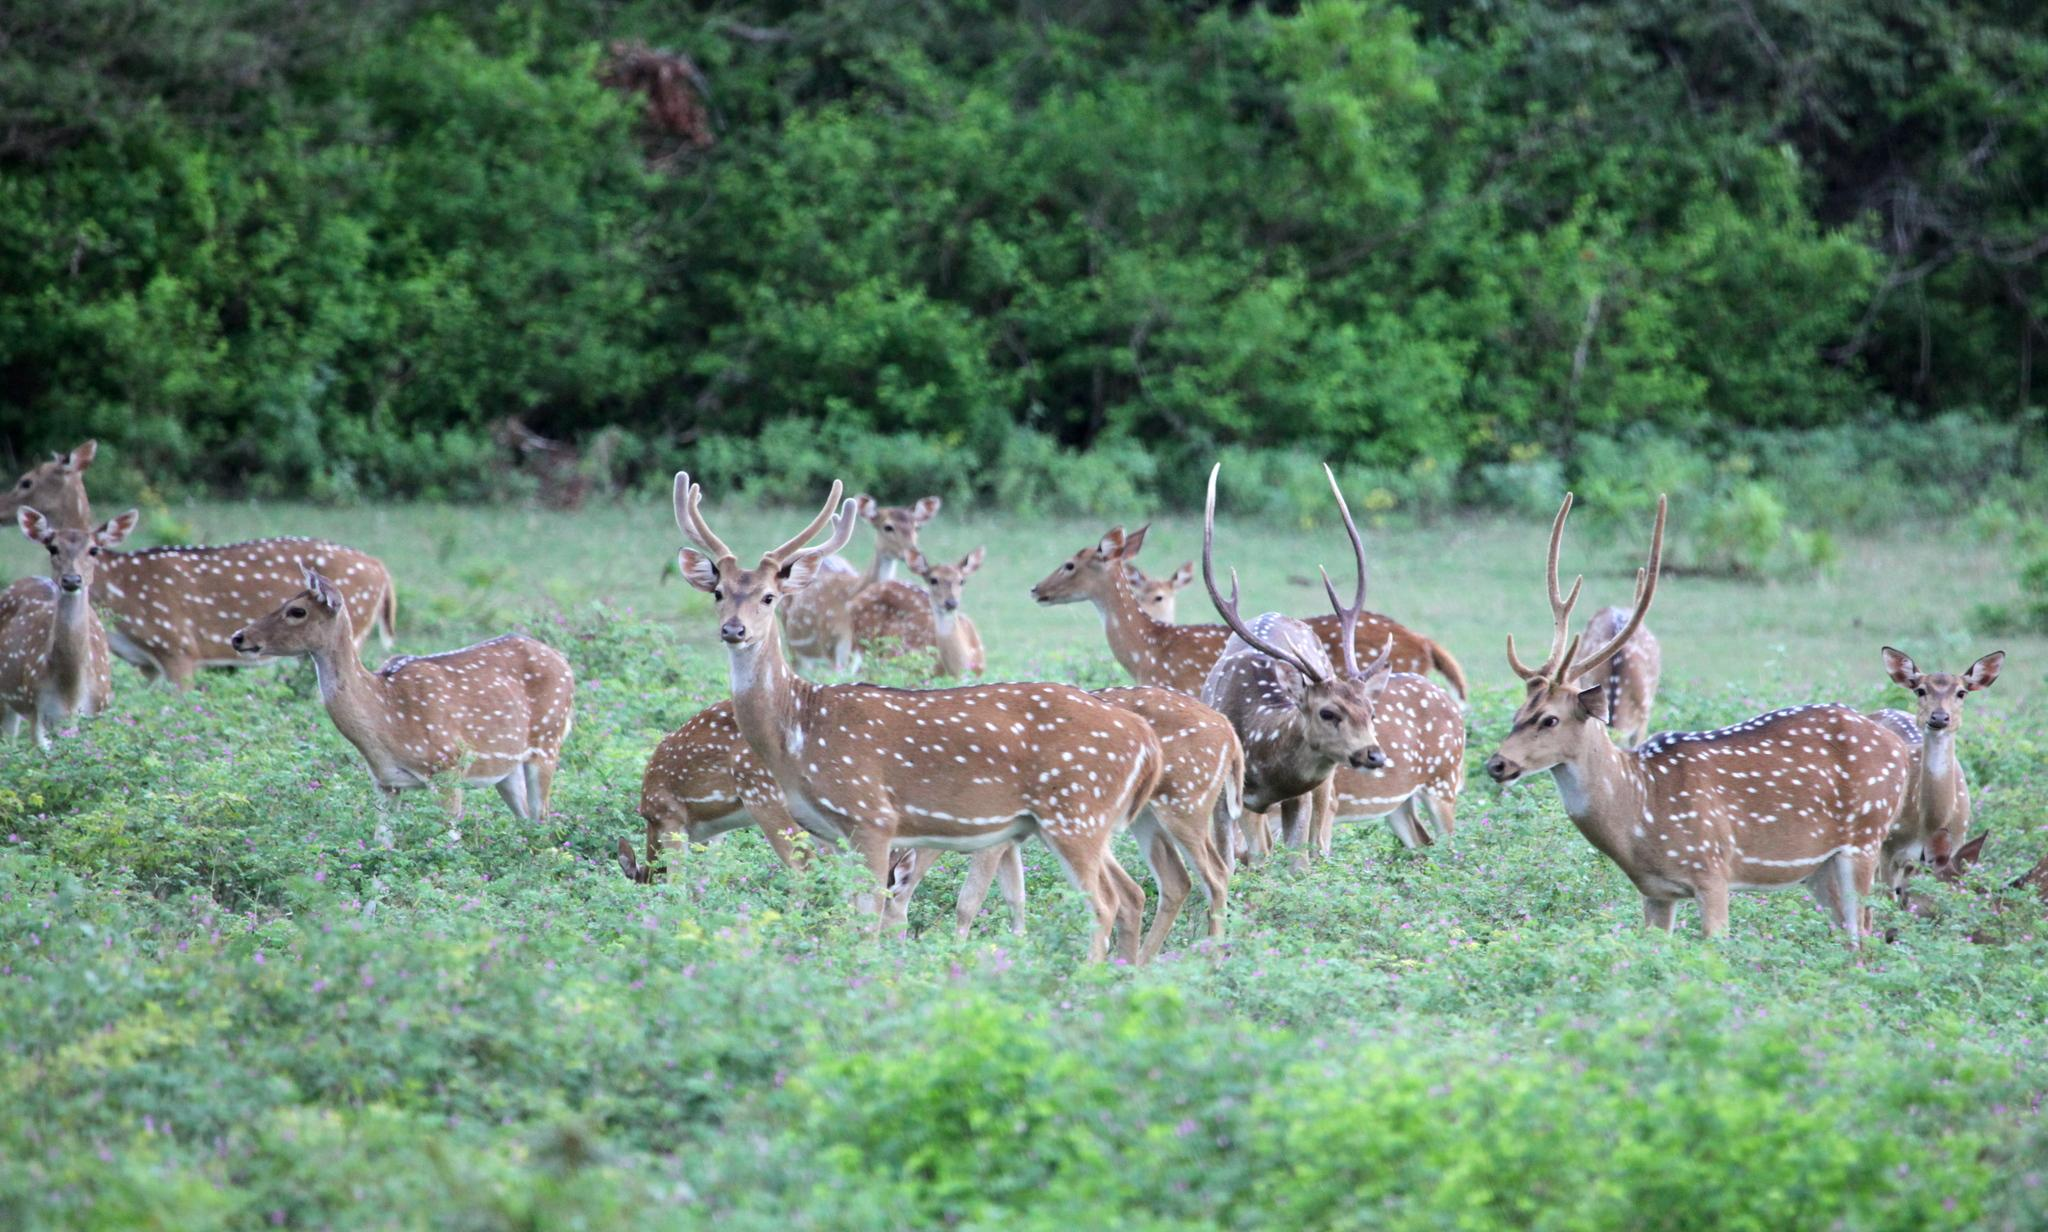Deer: (674, 473, 1164, 961), (1486, 492, 1908, 941), (233, 571, 573, 846), (1200, 462, 1393, 860), (1031, 525, 1232, 695), (0, 506, 138, 748), (1867, 647, 2004, 888), (781, 493, 941, 672), (850, 541, 986, 677)
